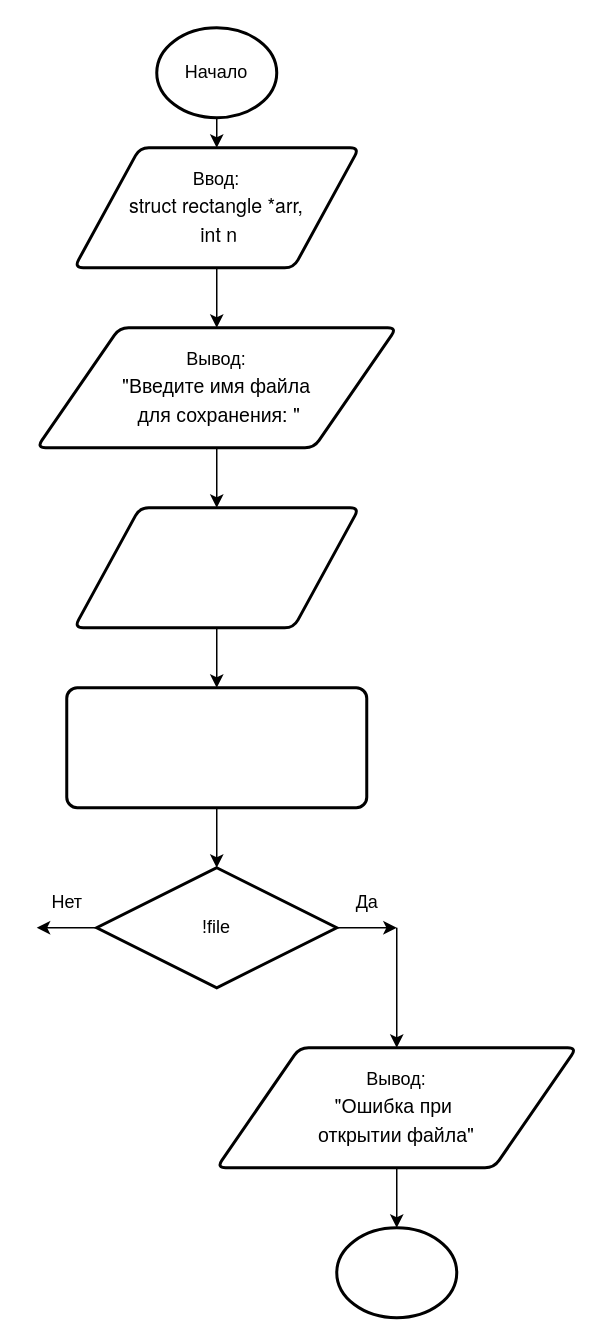
The diagram is 605 pixels wide and 1344 high, and some of its shapes have lost their labels. Each missing label, with the box of its shape:
*file = fopen(filename, "wb"): (64, 686, 368, 808)
Ввод: filename: (72, 506, 360, 628)
Конец: (334, 1226, 458, 1318)
